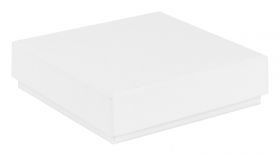Foam Box: (6, 8, 273, 145)
